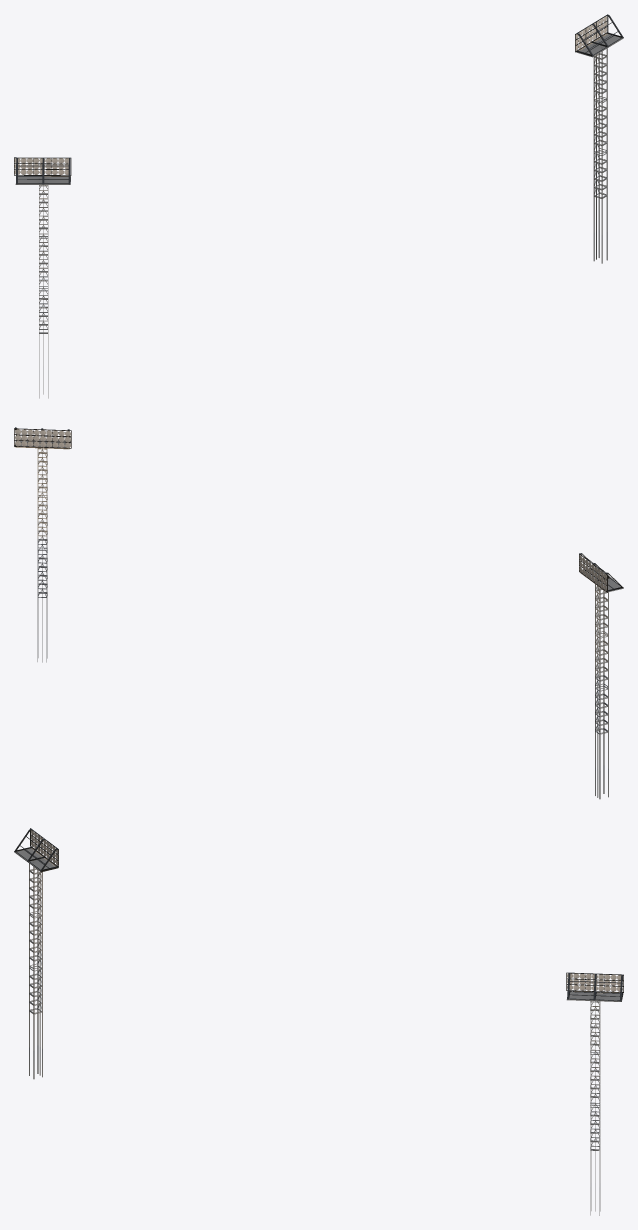
Rendered from Light With Stand_01.fbx.
3 views of the same model, one above another, from view 1: azimuth 30°, elevation 25°; view 2: azimuth 150°, elevation 25°; view 3: azimuth 330°, elevation 25° (orthographic).
Visible parts, largest first — view 1: Light With Stand_01; view 2: Light With Stand_01; view 3: Light With Stand_01.
Boxes of the visible parts, x1,y1,x2,y2 form: Light With Stand_01: [14, 14, 623, 398]; Light With Stand_01: [14, 427, 623, 799]; Light With Stand_01: [14, 828, 623, 1215].
Size of the model in its own units: 3640 by 1345 by 240.
1 material, 1 textured.
